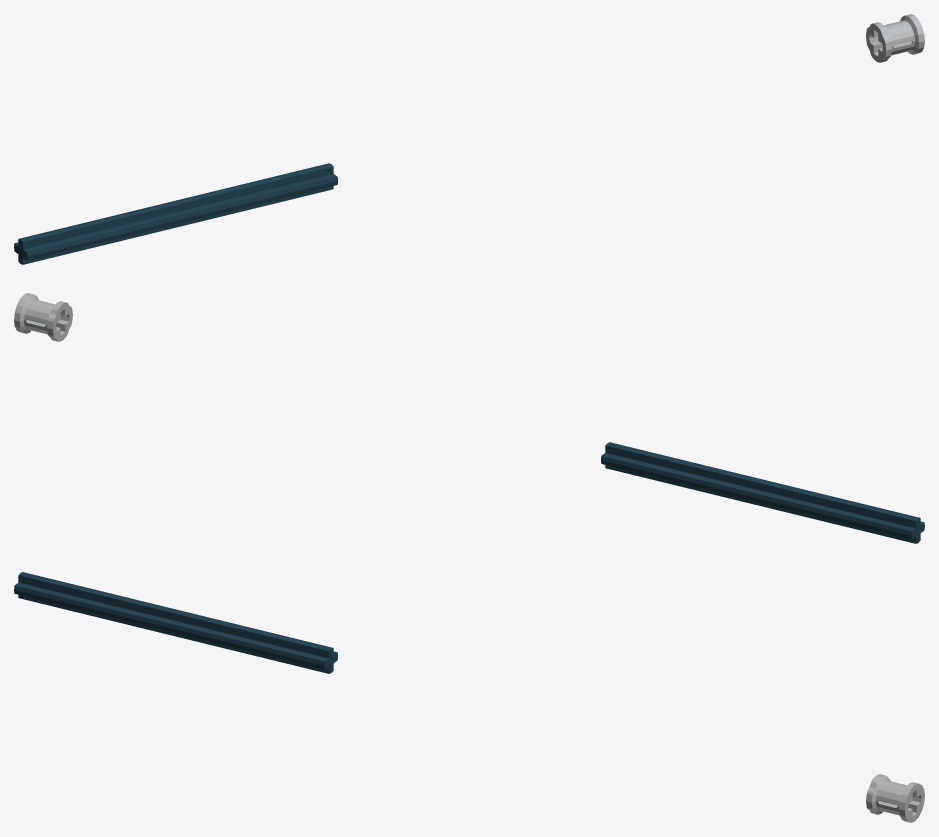
3 views of the same model, one above another, from view 1: azimuth 30°, elevation 25°; view 2: azimuth 150°, elevation 25°; view 3: azimuth 330°, elevation 25° (orthographic).
Visible parts, largest first — view 1: Piece001, Piece000; view 2: Piece001, Piece000; view 3: Piece001, Piece000.
Boxes of the visible parts, x1,y1,x2,y2 form: Piece001: [14, 163, 337, 264]; Piece000: [866, 14, 924, 62]; Piece001: [601, 442, 924, 543]; Piece000: [14, 293, 72, 341]; Piece001: [14, 572, 337, 673]; Piece000: [866, 774, 924, 822].
Bounding box in the file's own units: 461 × 18.01 × 18.
